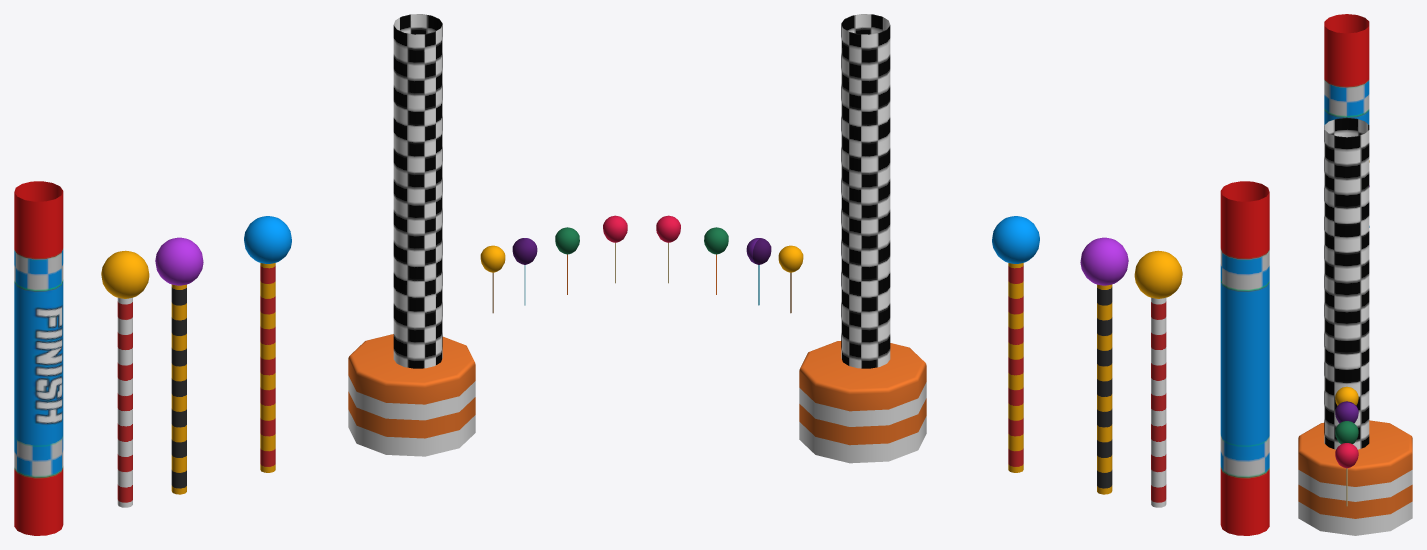
The model's file is Finish_Hurdles.FBX.
3 renders of one model, left to right at view 1: azimuth 30°, elevation 25°; view 2: azimuth 150°, elevation 25°; view 3: azimuth 270°, elevation 25°, orthographic. The views are drawn at different scales.
Parts seen in each view (by area): view 1: Finish_cylender, Finish_Pont_cylender, Finish_Thum, Cylinder018, Cylinder010, Cylinder017, Sphere007, Sphere001, Sphere006; view 2: Finish_cylender, Finish_Pont_cylender, Finish_Thum, Cylinder018, Cylinder010, Cylinder017, Sphere007, Sphere001, Sphere006; view 3: Finish_cylender, Finish_Thum, Finish_Pont_cylender, Sphere005, Sphere004, Sphere003, Sphere002.
Boxes of the visible parts, box(x1,y1,x2,y2) form: Finish_cylender: box(393, 14, 442, 368); Finish_Pont_cylender: box(14, 181, 63, 535); Finish_Thum: box(348, 334, 475, 456); Cylinder018: box(171, 284, 186, 494); Cylinder010: box(117, 297, 132, 507); Cylinder017: box(260, 263, 275, 472); Sphere007: box(155, 237, 203, 285); Sphere001: box(101, 250, 149, 298); Sphere006: box(244, 216, 291, 263); Finish_cylender: box(841, 14, 890, 368); Finish_Pont_cylender: box(1220, 181, 1269, 535); Finish_Thum: box(799, 341, 926, 463); Cylinder018: box(1097, 284, 1112, 494); Cylinder010: box(1151, 297, 1166, 507); Cylinder017: box(1008, 263, 1023, 472); Sphere007: box(1080, 237, 1128, 285); Sphere001: box(1134, 250, 1182, 298); Sphere006: box(992, 216, 1039, 263); Finish_cylender: box(1324, 117, 1369, 449); Finish_Thum: box(1298, 420, 1412, 535); Finish_Pont_cylender: box(1324, 14, 1369, 124); Sphere005: box(1335, 443, 1358, 468); Sphere004: box(1335, 421, 1358, 443); Sphere003: box(1335, 401, 1358, 423); Sphere002: box(1335, 386, 1358, 405).
Size of the model in its own units: 5718 by 989 by 3670.
